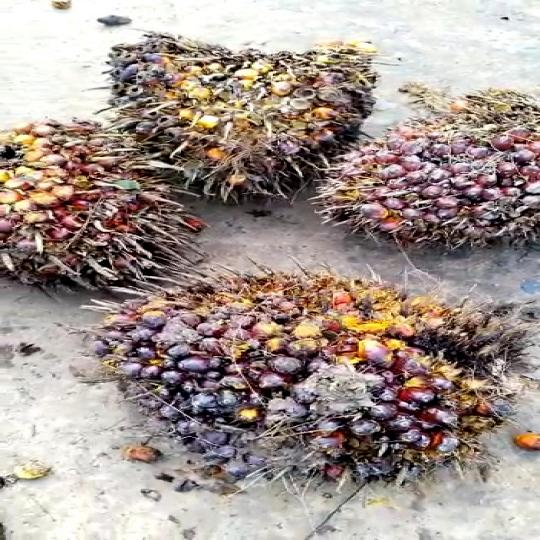masak: (84, 265, 514, 505), (84, 24, 406, 207), (0, 123, 209, 285), (329, 86, 540, 238)
